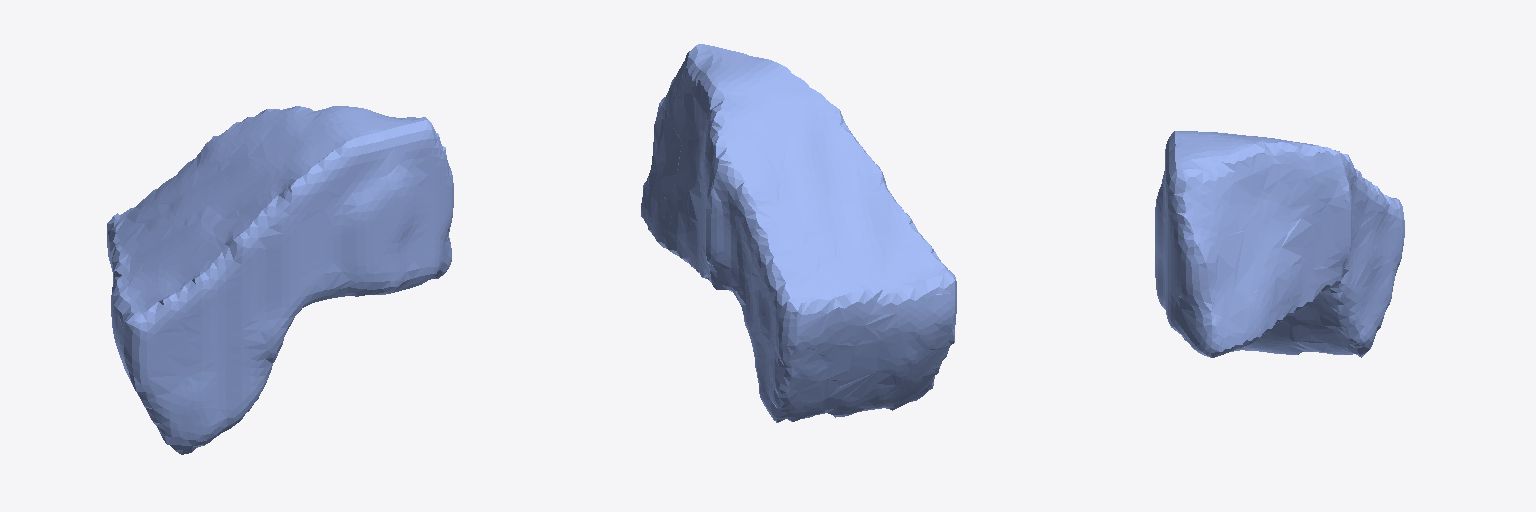
The model's file is Model_10107_LH__Parietal_area_PE__caudal_part_(PEC).obj.
3 renders of one model, left to right at view 1: azimuth 30°, elevation 25°; view 2: azimuth 150°, elevation 25°; view 3: azimuth 270°, elevation 25°, orthographic.
Size of the model in its own units: 3.66 by 3.19 by 2.48.